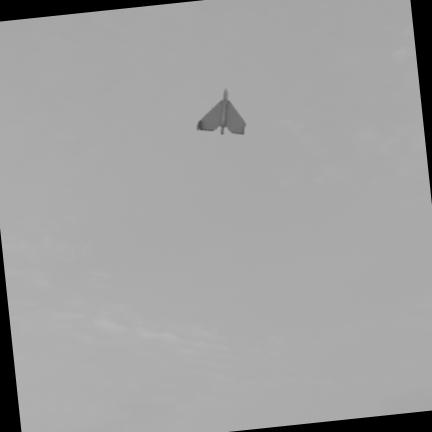Shahed: (197, 87, 249, 135)
